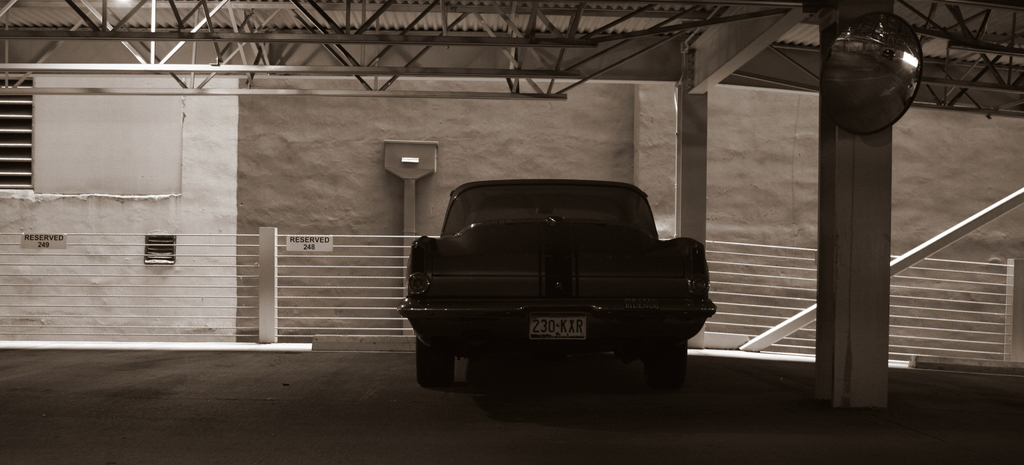Car: (400, 180, 722, 396)
